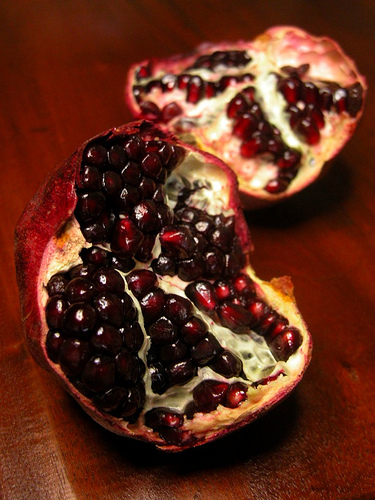pomogranate: (15, 120, 312, 451), (122, 25, 368, 200)
